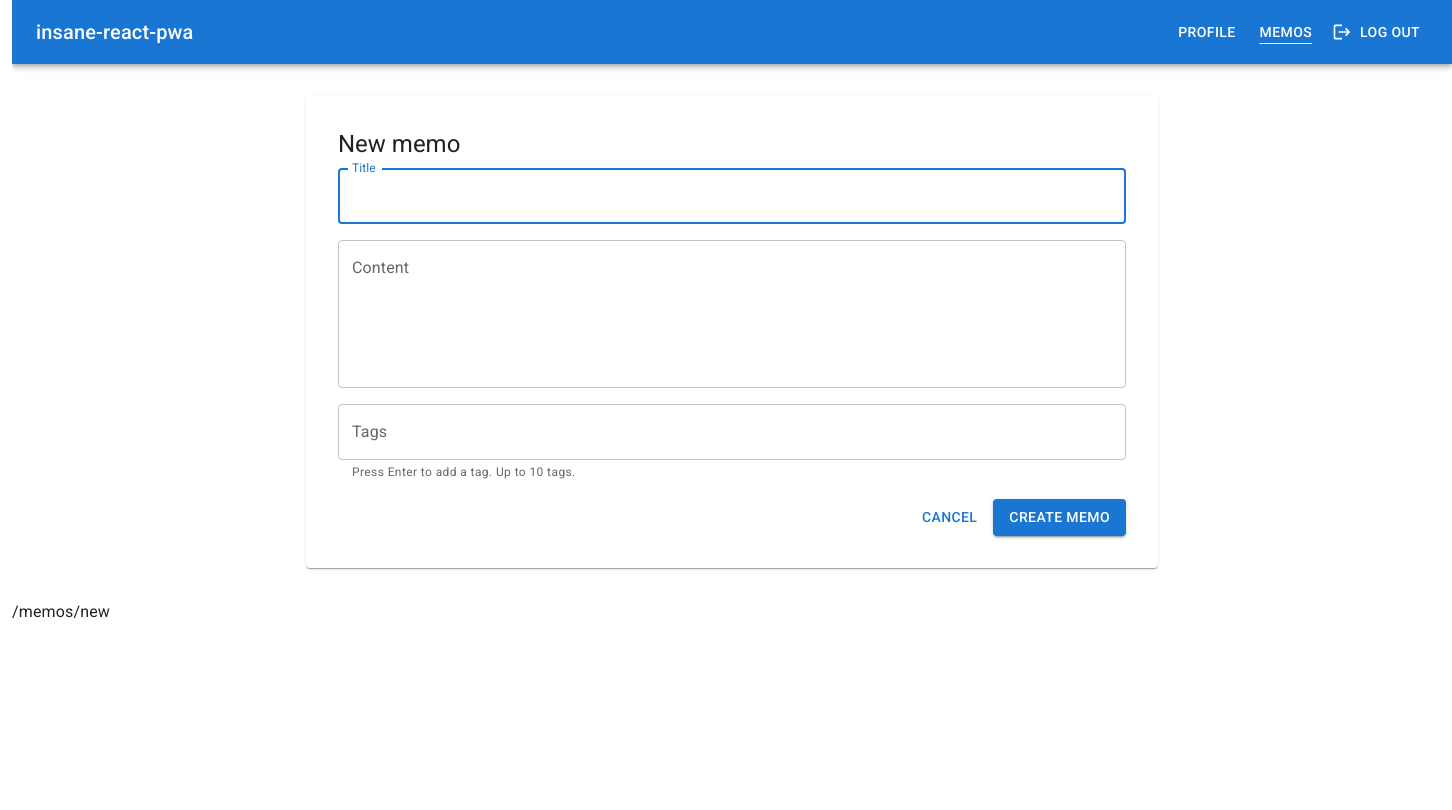
CreateMemoPage › clears a field’s error once it is edited
The image size is (1452, 810).
Expected: the heading "New memo" is shown, [338,130,460,158]
Click the button "Create memo": x=1060, y=518 [993,499,1126,536]
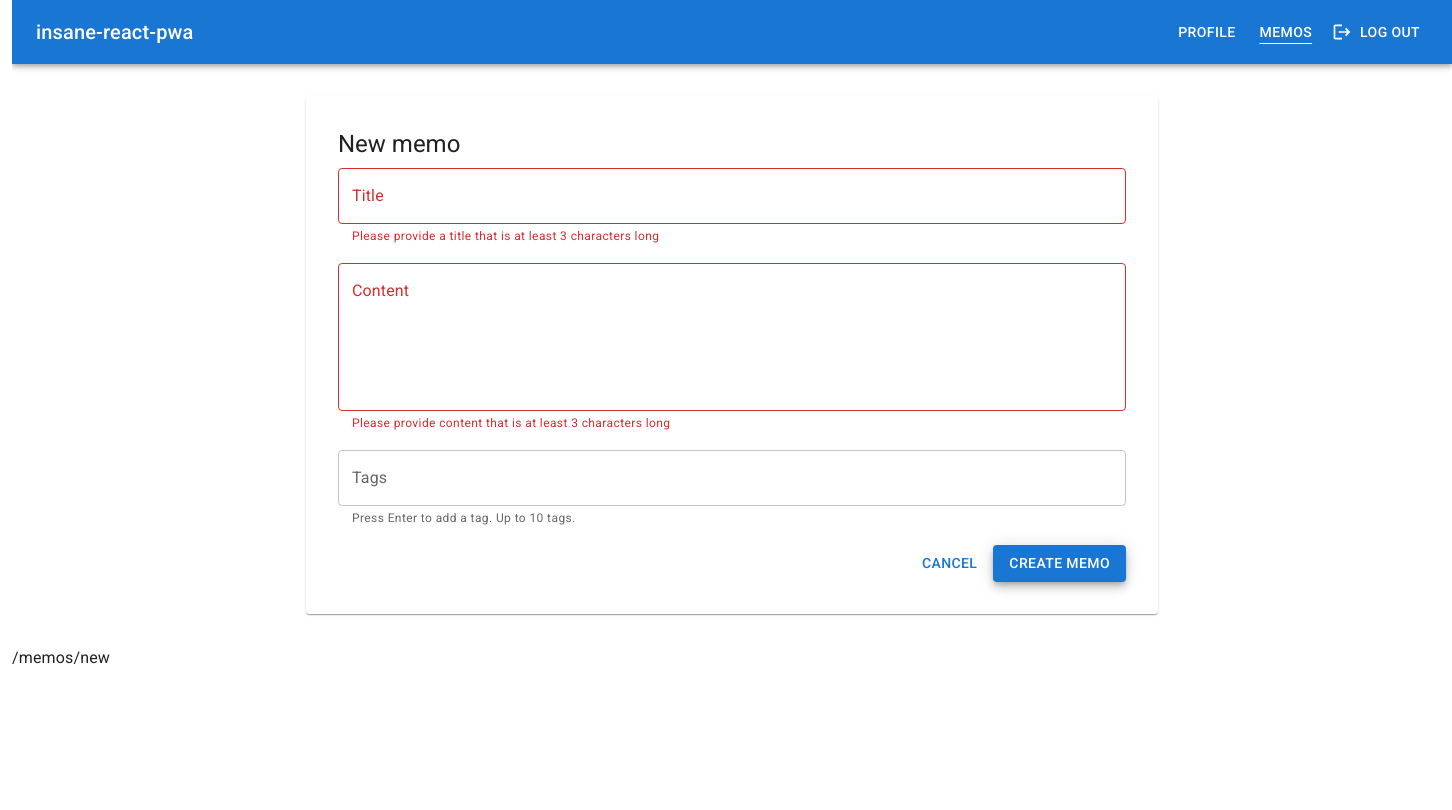
In the field labelled "Title": x=732, y=196 [338,168,1126,224], type "P"
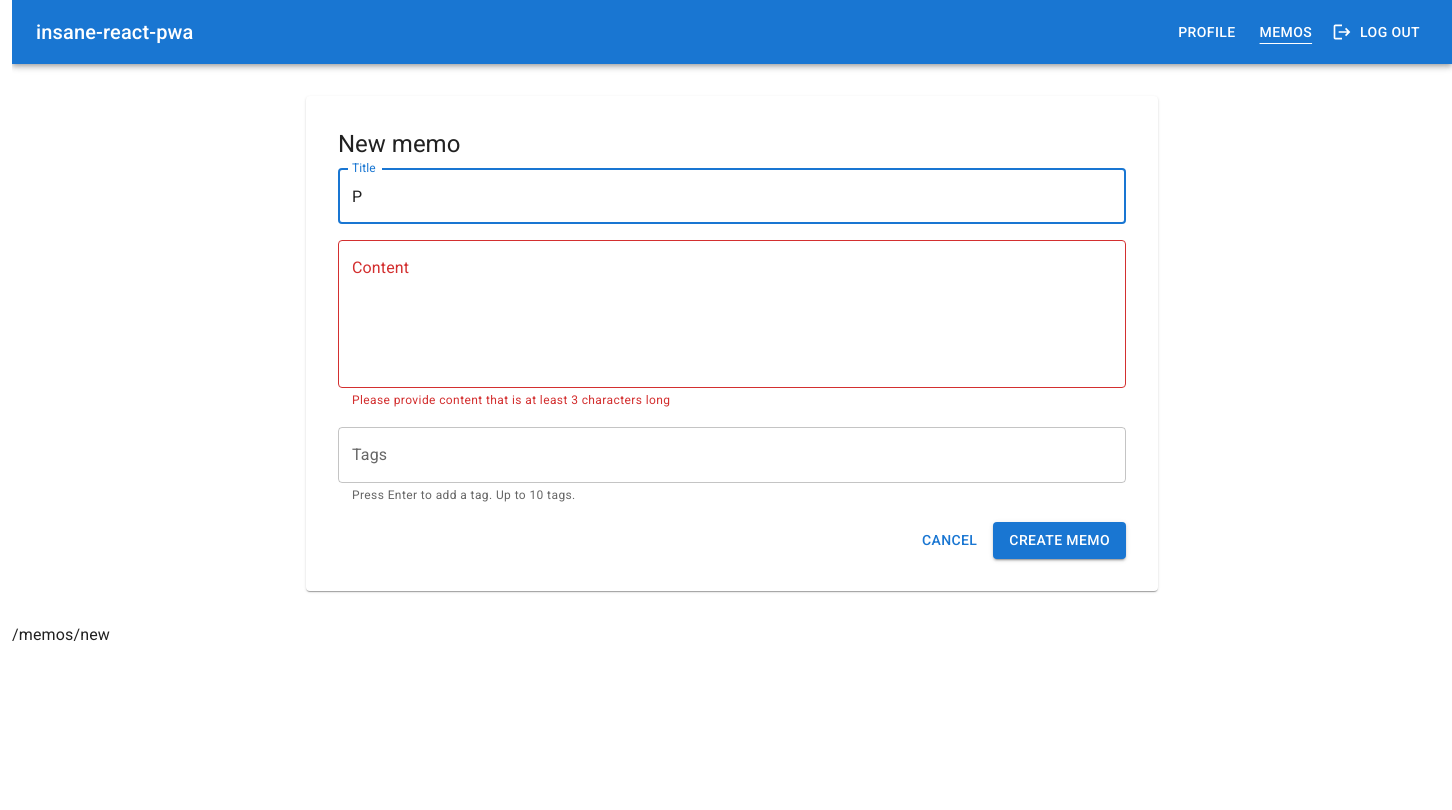
Now the text "Please provide content that is at least 3 characters long" is shown, box [352,393,670,407]
Now the text "title that is at least 3" is gone
